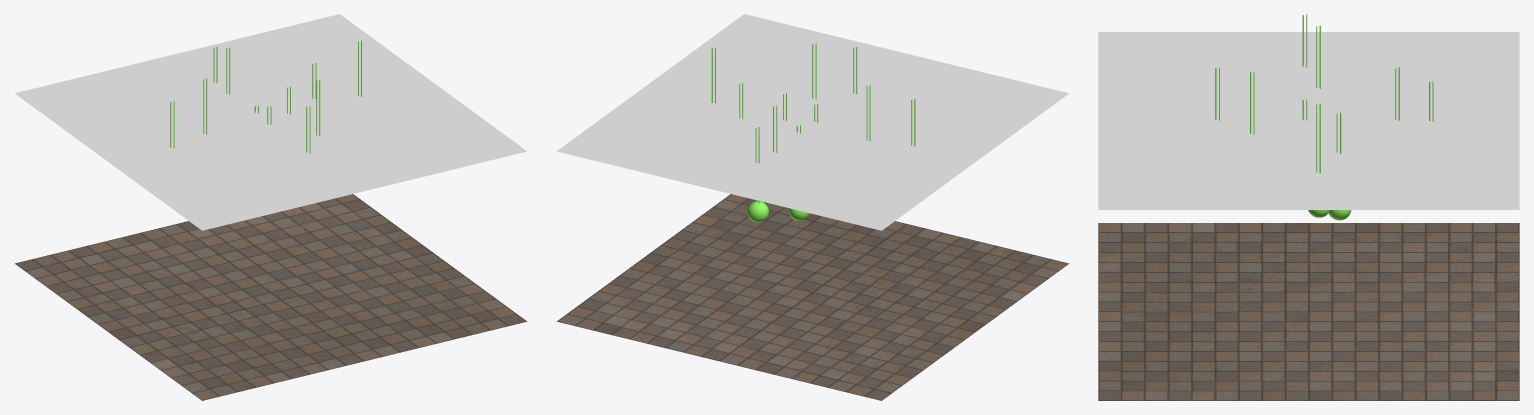
3 renders of one model, left to right at view 1: azimuth 30°, elevation 25°; view 2: azimuth 150°, elevation 25°; view 3: azimuth 270°, elevation 25°, orthographic. The views are drawn at different scales.
Visible parts, largest first — view 1: Techo, Suelo; view 2: Techo, Suelo; view 3: Suelo, Techo.
Boxes of the visible parts, x1,y1,x2,y2 form: Techo: (15,14,526,230); Suelo: (15,194,526,400); Techo: (557,14,1068,230); Suelo: (557,194,1068,400); Suelo: (1098,223,1519,400); Techo: (1098,32,1519,209).
Size of the model in its own units: 100 by 66.04 by 100.
